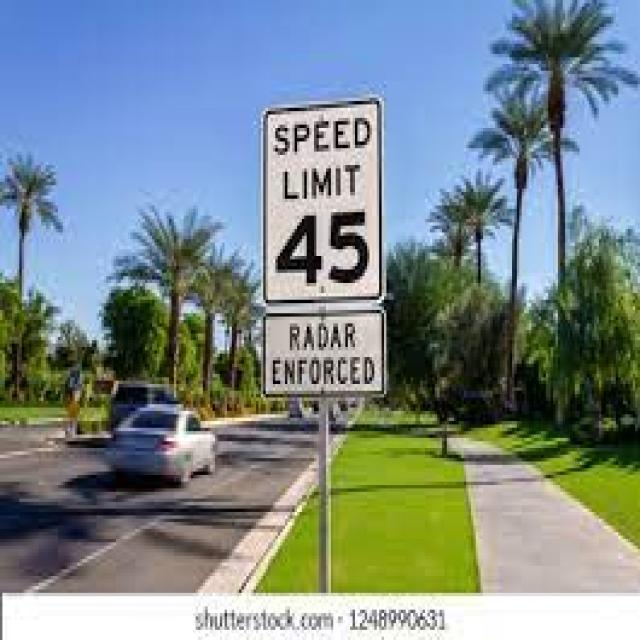speedLimit45: (260, 105, 382, 306)
